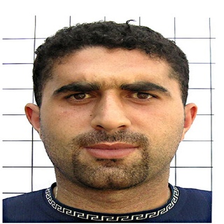no_mask: (41, 57, 179, 185)
